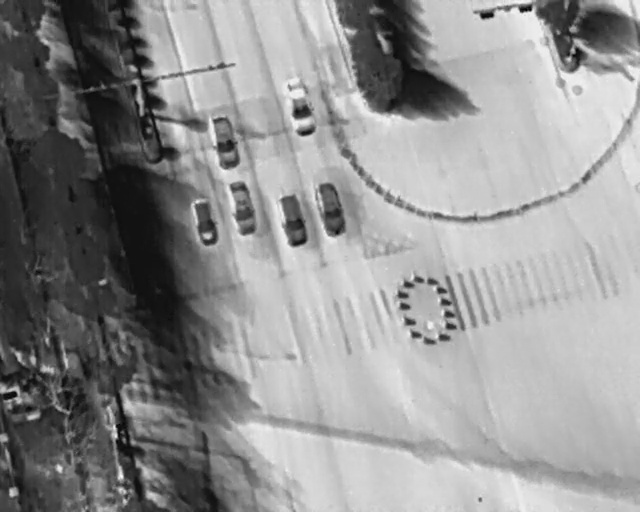Car: (278, 72, 320, 138), (312, 179, 350, 239), (205, 110, 241, 172), (224, 179, 259, 237), (276, 192, 309, 249), (189, 195, 219, 247)
